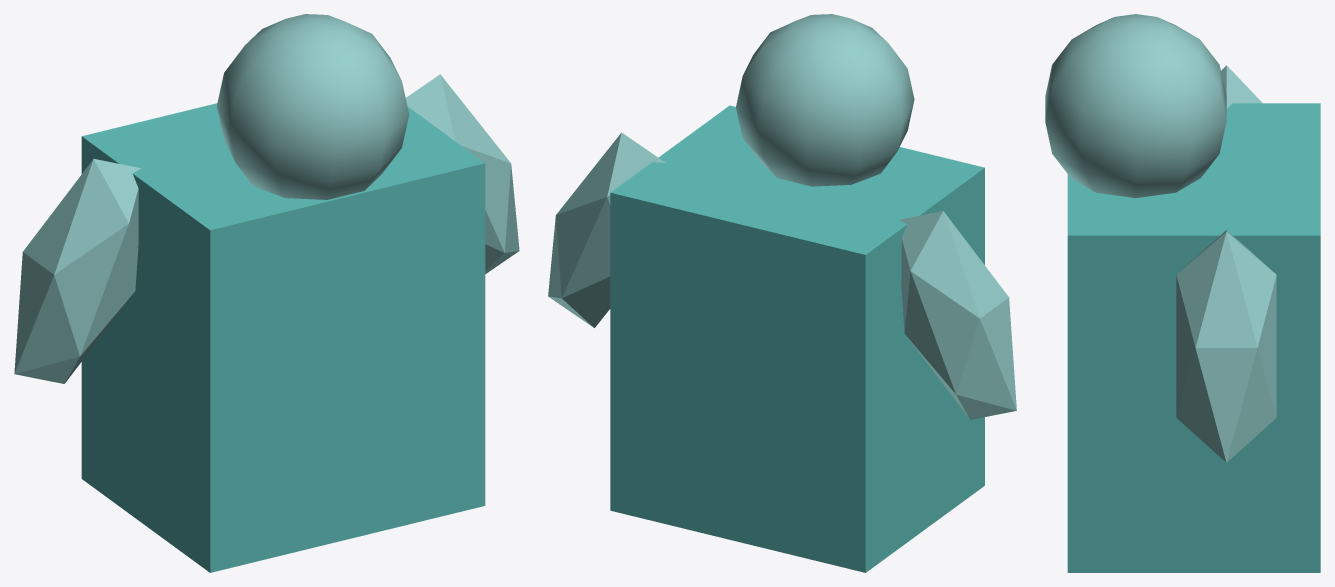
File: crystal_monster_3.glb
The picture shows the model from 3 angles, left to right: view 1: azimuth 30°, elevation 25°; view 2: azimuth 150°, elevation 25°; view 3: azimuth 270°, elevation 25°; orthographic projection. The views are drawn at different scales.
Parts seen in each view (by area): view 1: CoreBody, Head, MOTIF_crystal_prism_-1, MOTIF_crystal_prism_1; view 2: CoreBody, Head, MOTIF_crystal_prism_-1, MOTIF_crystal_prism_1; view 3: CoreBody, Head, MOTIF_crystal_prism_1, MOTIF_crystal_prism_-1.
Part boxes in pixels (bbox=[...]): CoreBody: bbox=[81, 103, 485, 572]; Head: bbox=[217, 14, 409, 199]; MOTIF_crystal_prism_-1: bbox=[14, 159, 140, 383]; MOTIF_crystal_prism_1: bbox=[405, 74, 519, 273]; CoreBody: bbox=[610, 105, 984, 572]; Head: bbox=[736, 14, 914, 186]; MOTIF_crystal_prism_-1: bbox=[899, 211, 1016, 419]; MOTIF_crystal_prism_1: bbox=[548, 132, 665, 327]; CoreBody: bbox=[1067, 103, 1320, 572]; Head: bbox=[1045, 14, 1226, 197]; MOTIF_crystal_prism_1: bbox=[1176, 230, 1276, 462]; MOTIF_crystal_prism_-1: bbox=[1221, 65, 1262, 108].
Bounding box in the file's own units: 1.77 × 1.65 × 0.851.
